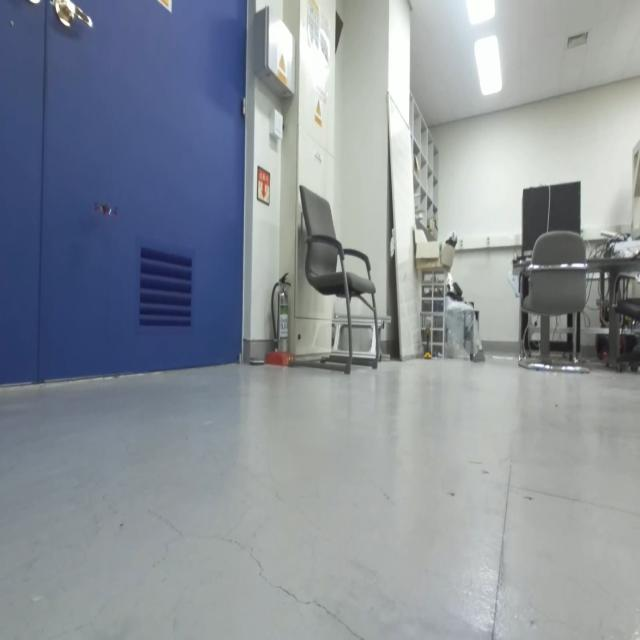crazyflie: (85, 190, 122, 228)
